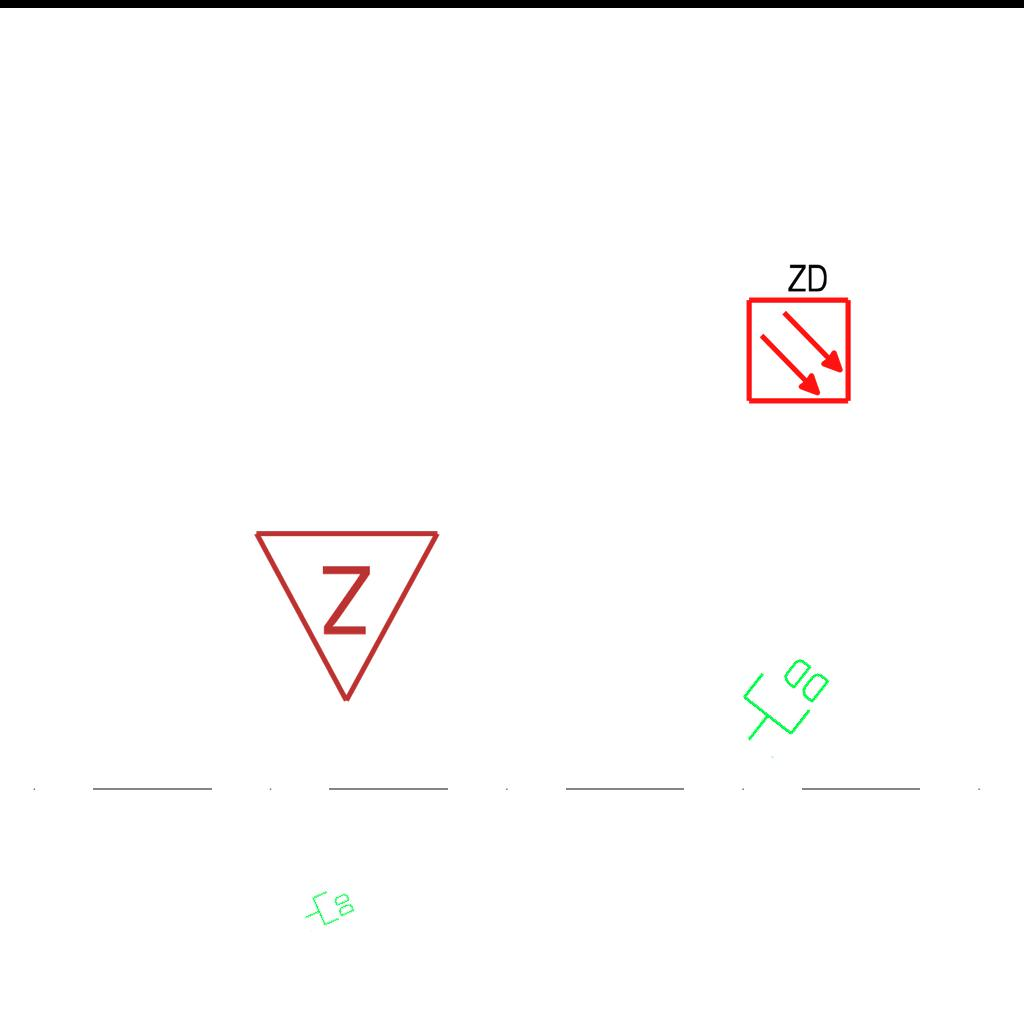Datenanschluss_zweifach: (720, 639, 839, 764), (297, 882, 358, 934)
ZD_Melder_in_Zwischendecke_mit_Revisionsoeffnung_mind_40_x_40_cm: (740, 257, 854, 406)
Zimmersignalleuchte: (251, 516, 447, 716)
